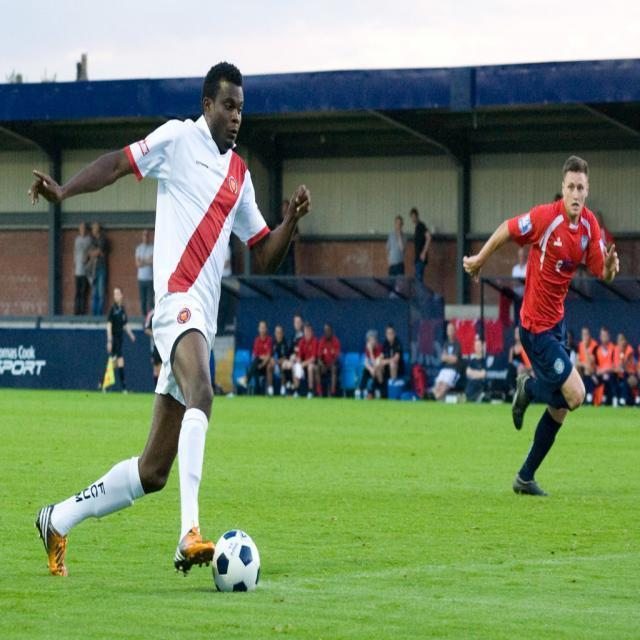ball: (212, 525, 263, 593)
